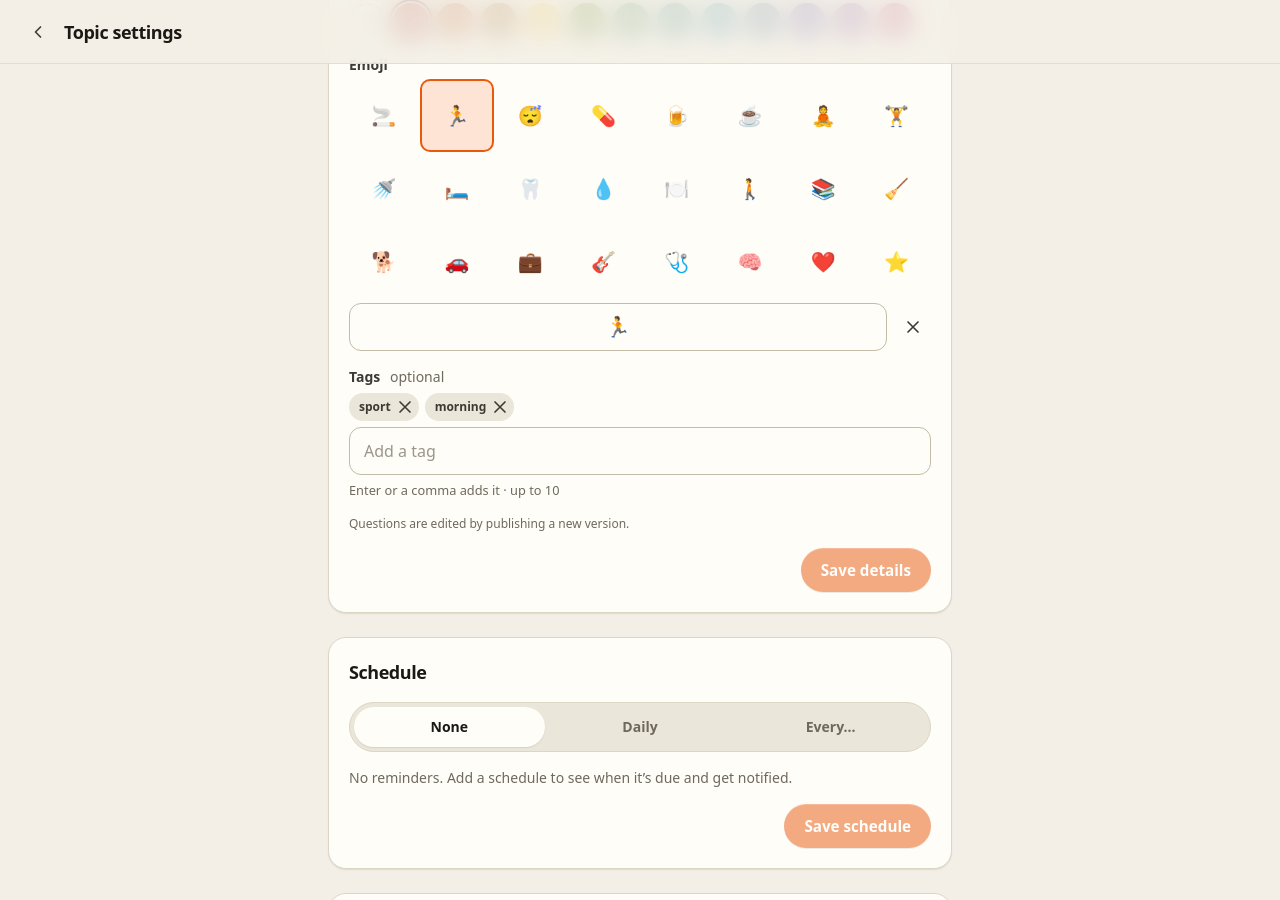
Test case: SettingsPage appearance PATCH › puts the server’s 422 paths on the matching field
(page scrolled)
Type "evening" into the field labelled "Tags optional".
click(640, 451); type("evening")  # box [349,427,931,475]
Then press Enter
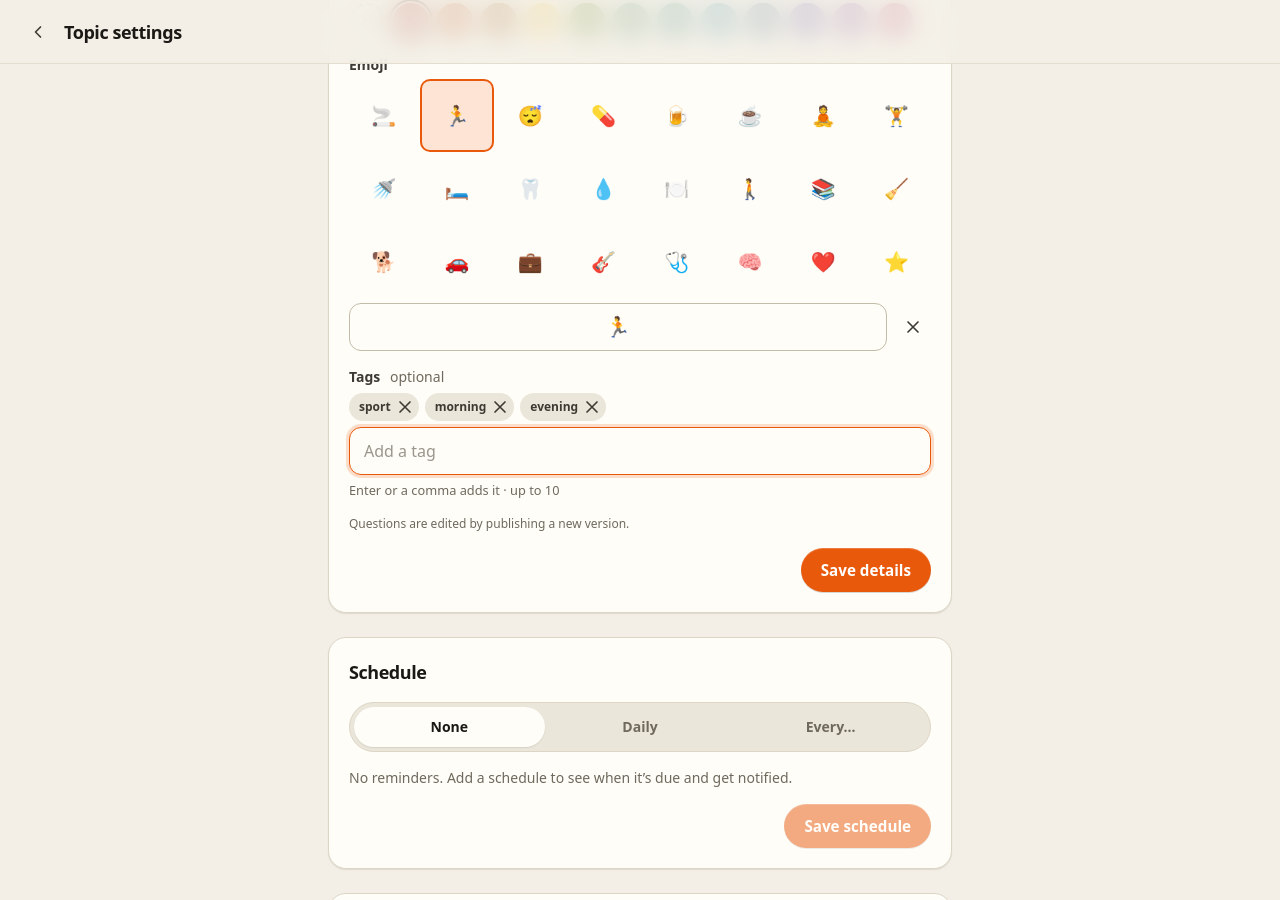
Click the button "Save details".
click(866, 570)  # box [801,548,931,592]
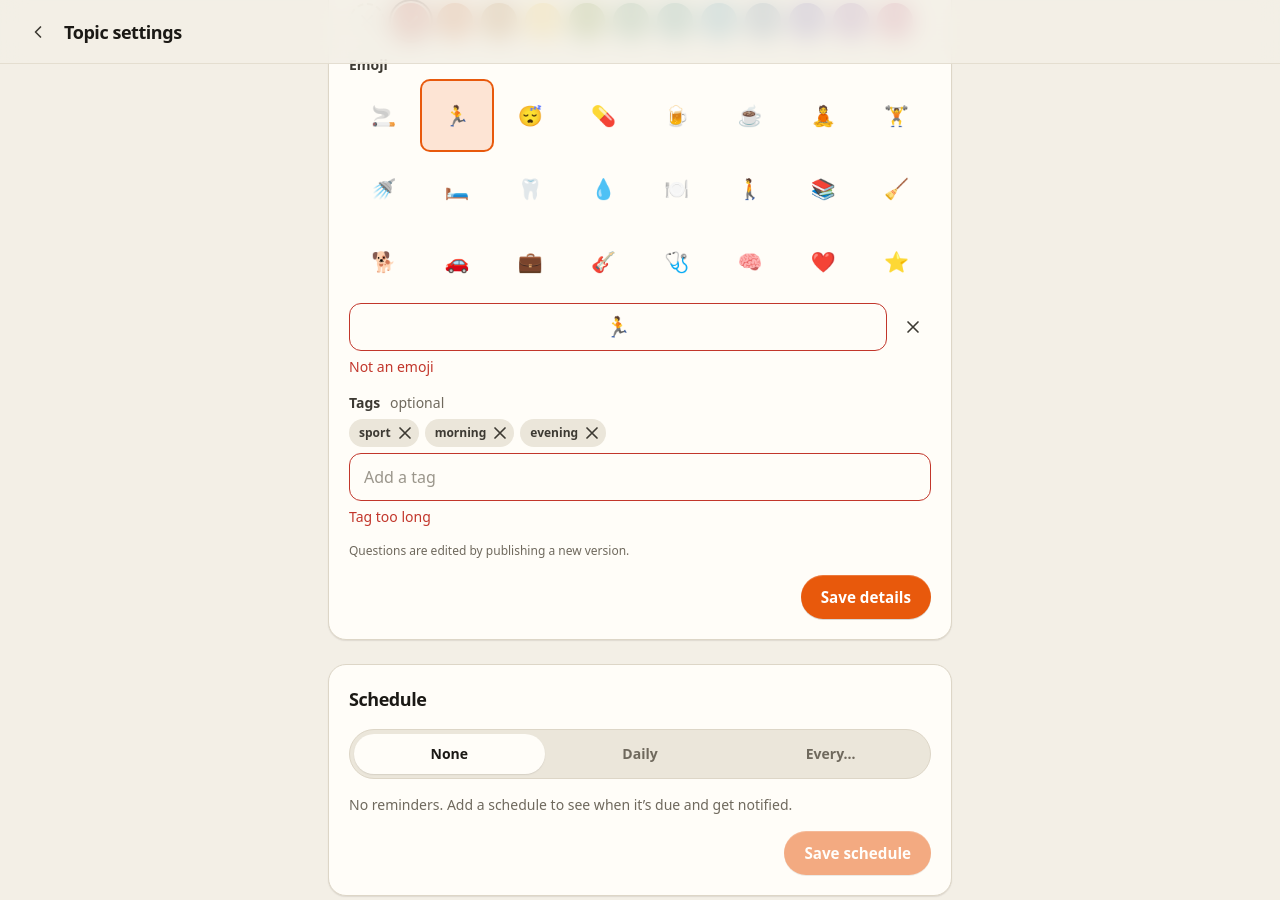
Check: the text "Tag too long" is shown, box [349,507,431,526]
Check: the text "Not an emoji" is shown, box [349,357,434,376]
